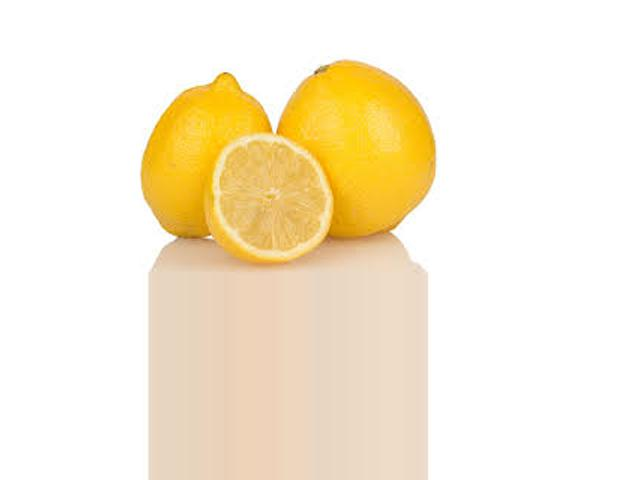lemon: (130, 68, 272, 255)
